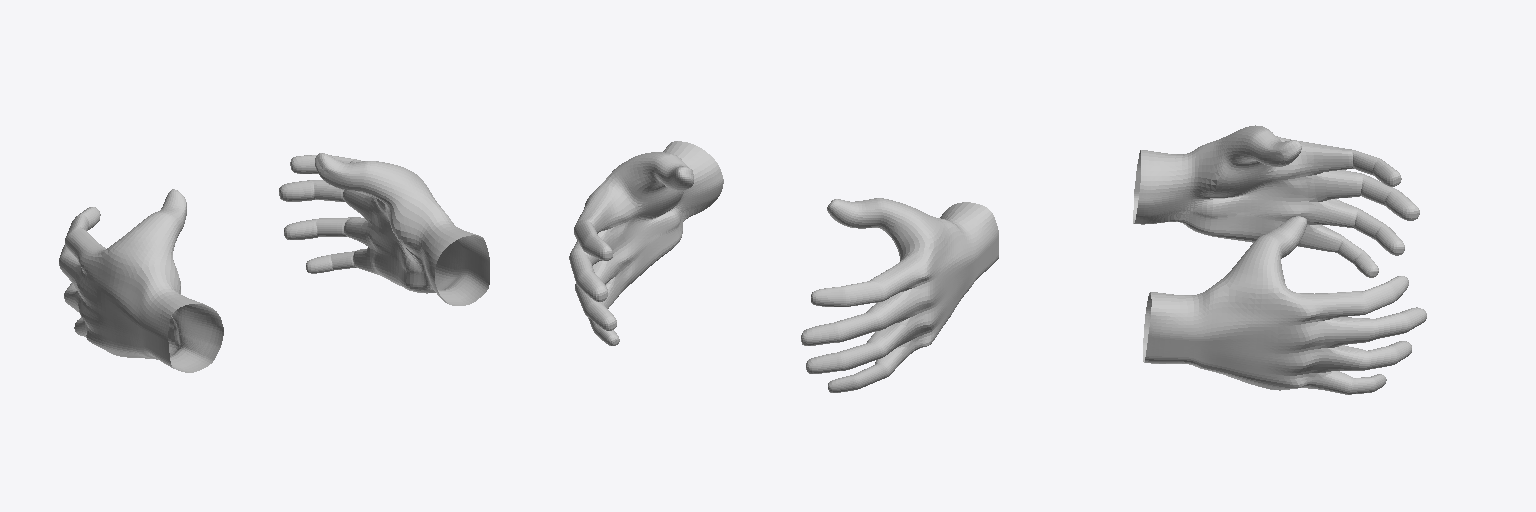
Rendered from hands.obj.
3 renders of one model, left to right at view 1: azimuth 30°, elevation 25°; view 2: azimuth 150°, elevation 25°; view 3: azimuth 270°, elevation 25°, orthographic.
Size of the model in its own units: 7.02 by 3.13 by 5.29.